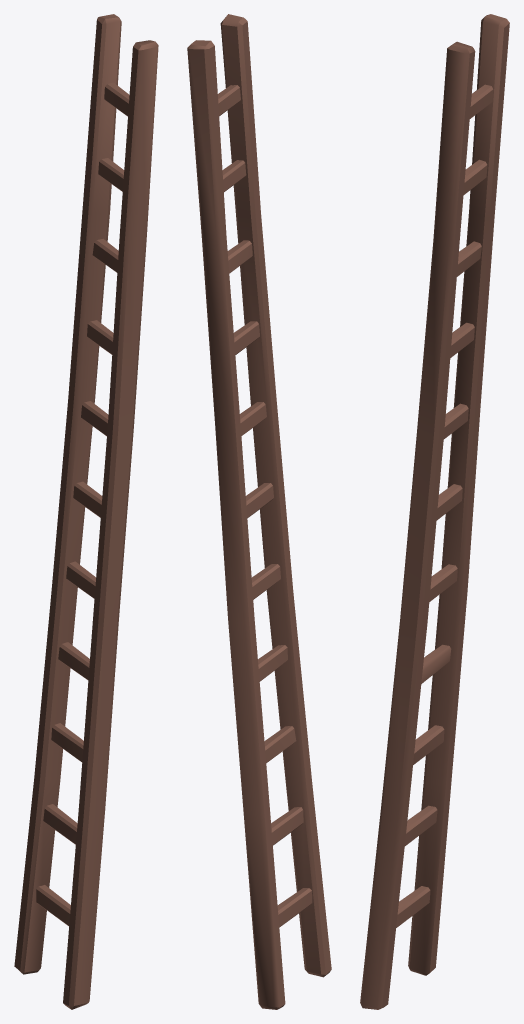
The model's file is ladder_2.FBX.
The picture shows the model from 3 angles, left to right: view 1: azimuth 30°, elevation 25°; view 2: azimuth 150°, elevation 25°; view 3: azimuth 330°, elevation 25°; orthographic projection. The views are drawn at different scales.
Parts seen in each view (by area): view 1: ladder_2_LOD0; view 2: ladder_2_LOD0; view 3: ladder_2_LOD0.
Boxes of the visible parts, bbox=[...] form: ladder_2_LOD0: bbox=[14, 14, 158, 1009]; ladder_2_LOD0: bbox=[187, 14, 331, 1009]; ladder_2_LOD0: bbox=[360, 14, 509, 1009].
Size of what is drawn, in the model's own units: 94.37 by 859 by 94.75.
